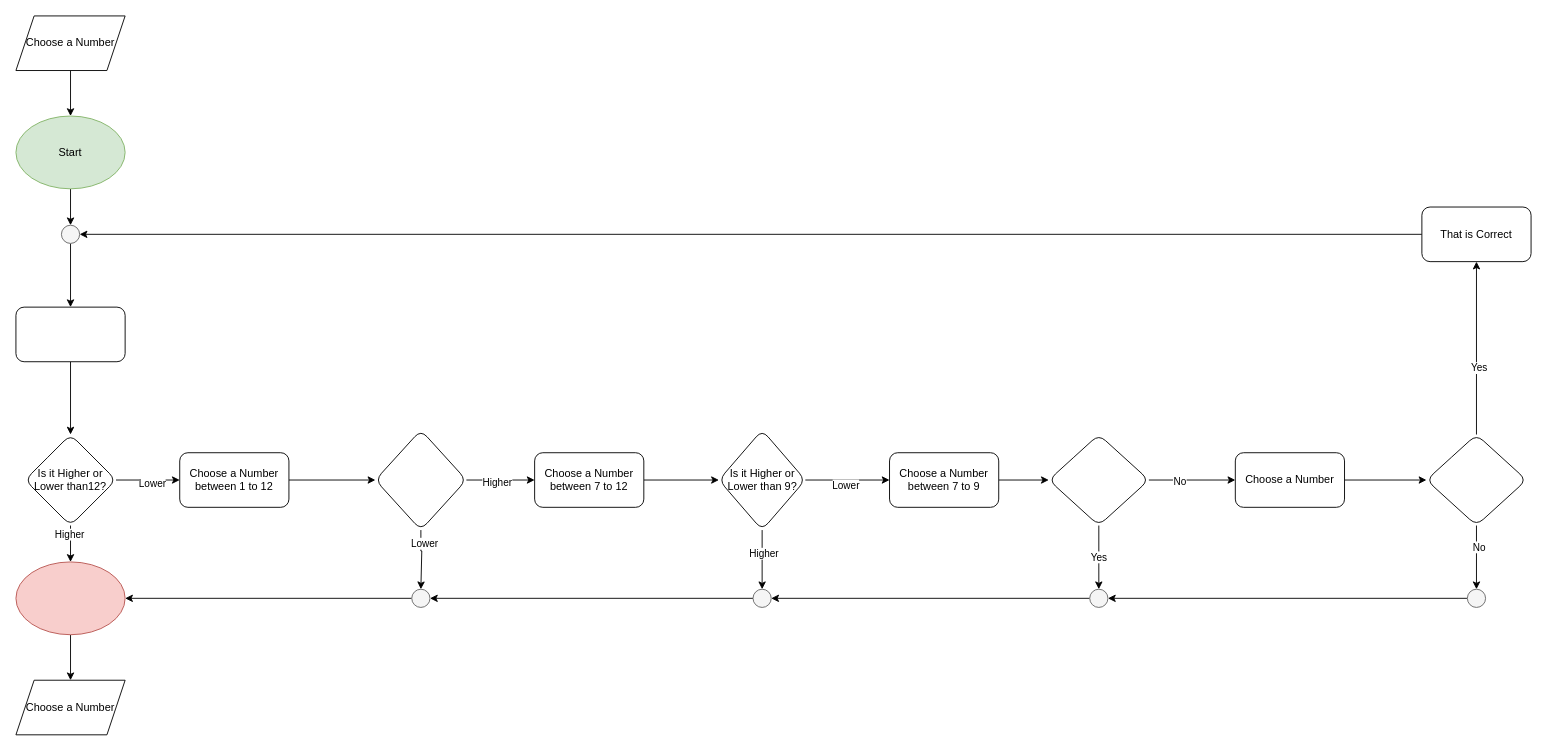
Image size: 1547x751. Some labels were removed from this diagram. The shapes that lost their labels are listed below. From the top down, each one's centre as x and y in pixels, then its label:
At pixel 70 334: "Choose a Number between 1 to 25".
At pixel 420 479: "Is it Higher or Lower than 6?".
At pixel 1098 480: "Is it 8?".
At pixel 1476 480: "Is it 7?".
At pixel 70 598: "End".
